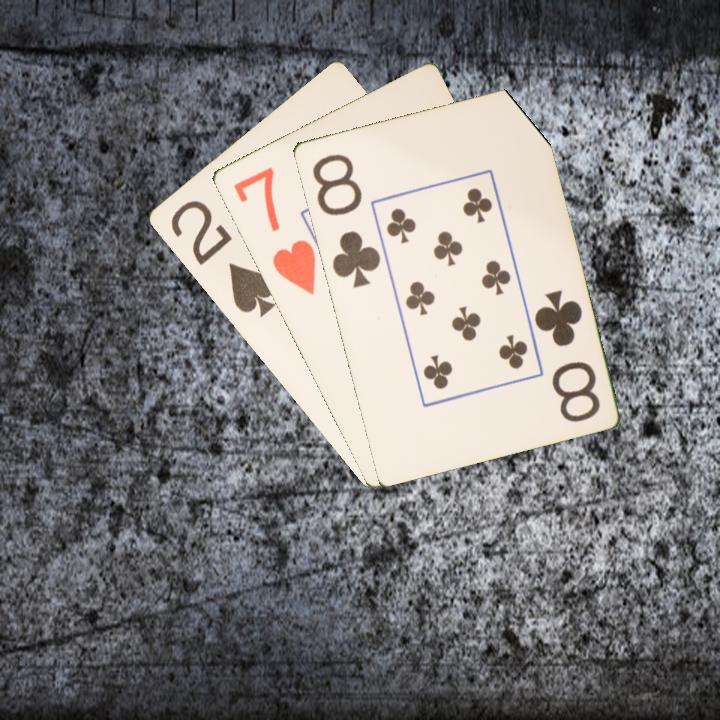2s: (166, 196, 279, 320)
7h: (229, 163, 319, 298)
8c: (308, 150, 383, 291), (530, 286, 603, 425)
